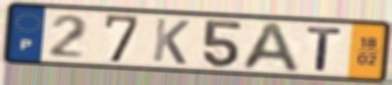2: (47, 13, 91, 60)
5: (202, 18, 245, 70)
7: (102, 13, 140, 64)
A: (237, 20, 303, 75)
K: (150, 16, 192, 67)
T: (304, 25, 345, 73)
